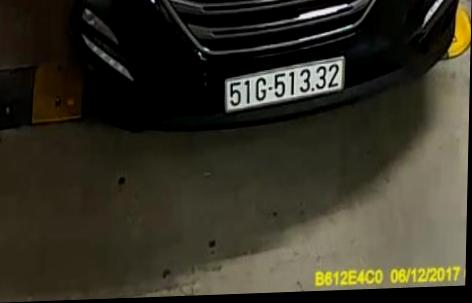License_Plate: (221, 54, 351, 120)
